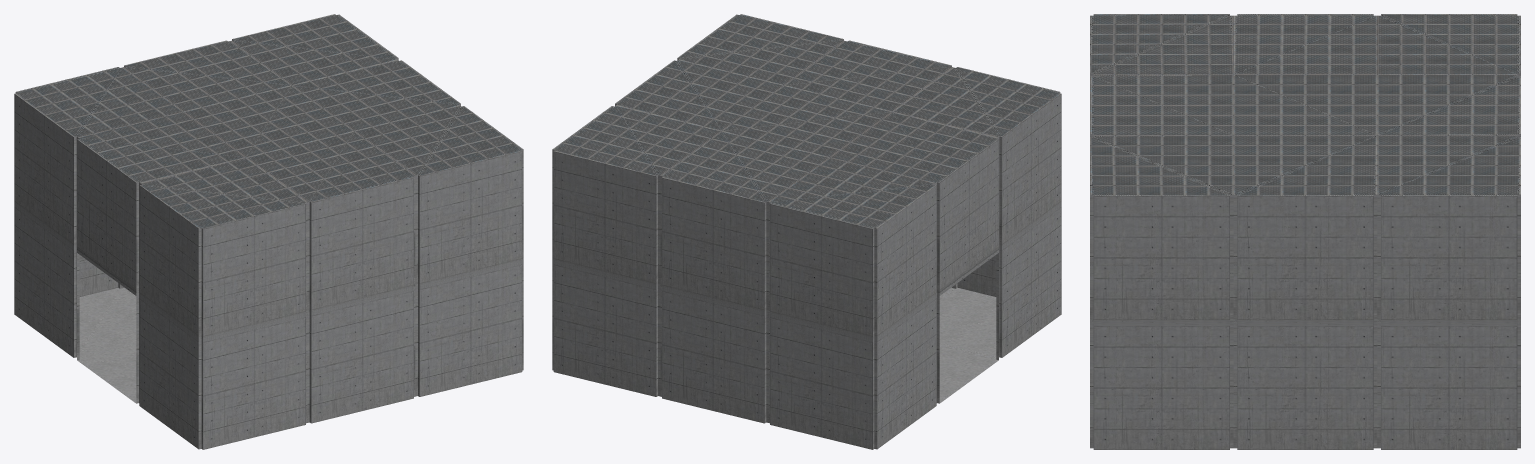
File: ContainmentUnit.fbx
3 views of the same model, side by side, from view 1: azimuth 30°, elevation 25°; view 2: azimuth 150°, elevation 25°; view 3: azimuth 270°, elevation 25° (orthographic). The views are drawn at different scales.
Visible parts, largest first — view 1: Room; view 2: Room; view 3: Room.
Part boxes in pixels (x1,y1,x2,y2): Room: (14, 14, 523, 449); Room: (552, 14, 1061, 449); Room: (1090, 14, 1520, 449).
Bounding box in the file's own units: 600 × 390 × 600.
